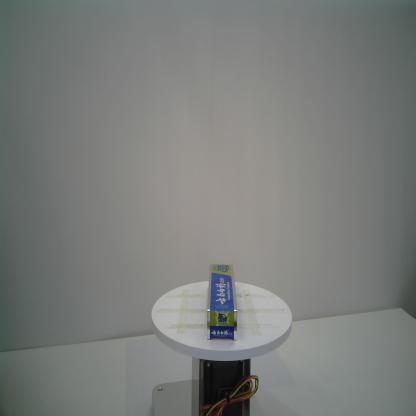Personal Hygiene: (206, 263, 238, 340)
